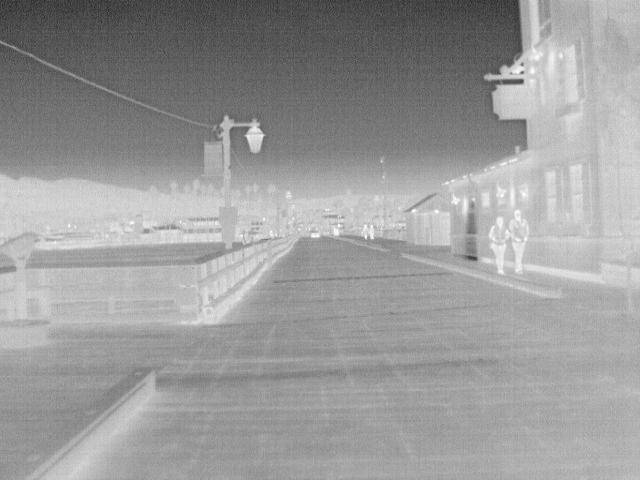car: (308, 228, 323, 239)
person: (505, 205, 531, 273), (488, 214, 511, 274), (361, 222, 370, 241), (368, 222, 377, 241)
